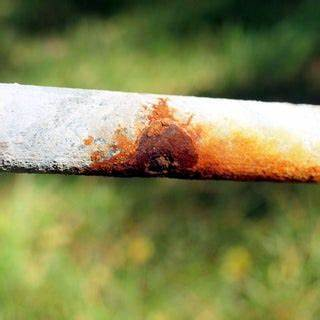Moderate: (87, 88, 205, 182), (192, 121, 318, 183)
